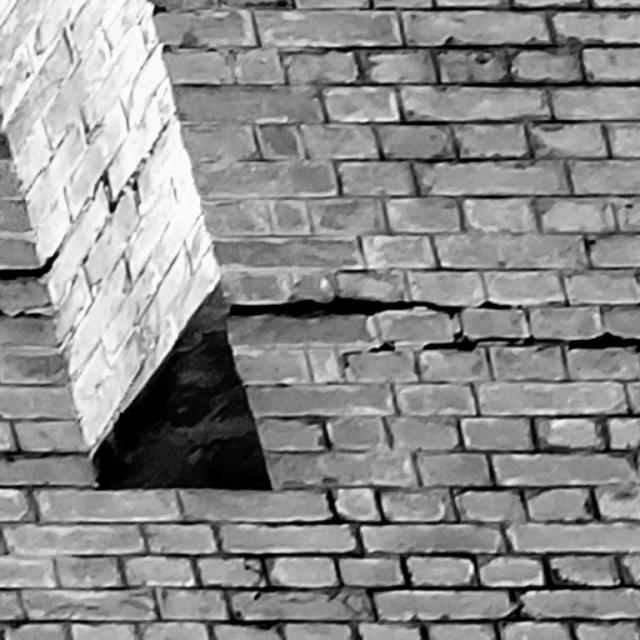crack: (228, 297, 640, 353), (1, 251, 58, 279)
